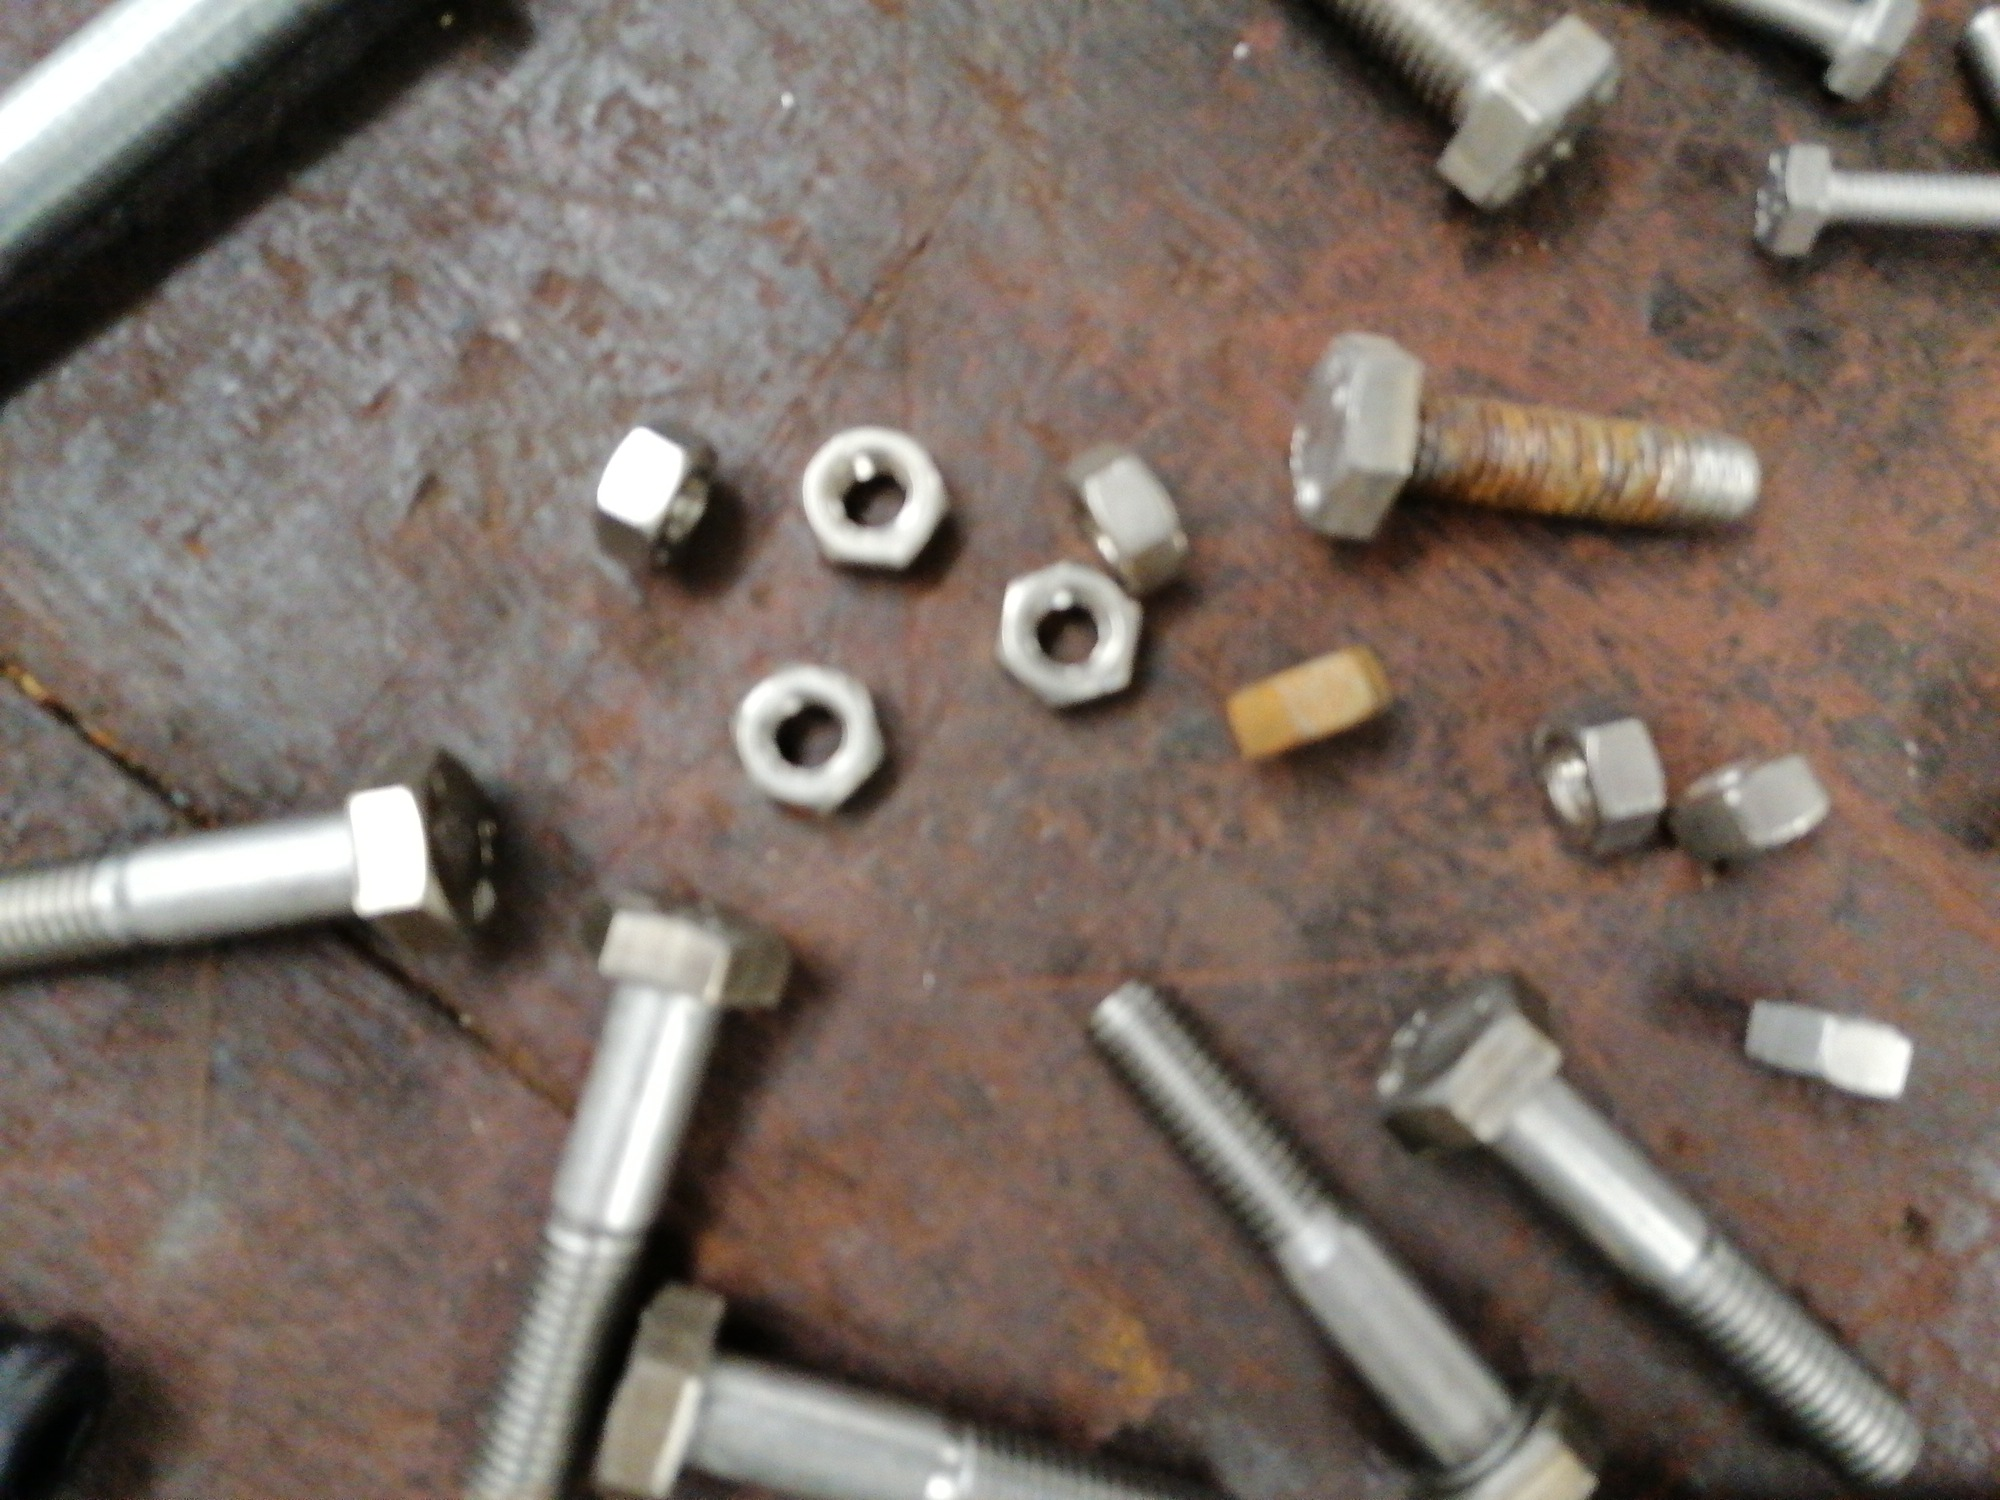bolt: (1369, 966, 1932, 1494), (1085, 964, 1613, 1498), (441, 890, 795, 1498), (576, 1272, 1213, 1498), (0, 741, 515, 980), (1287, 329, 1767, 540), (1321, 2, 1627, 211), (1750, 142, 2000, 257), (1666, 2, 1921, 106)
nut: (987, 551, 1148, 715), (795, 419, 954, 581), (729, 660, 893, 818), (1523, 696, 1671, 857), (1220, 640, 1402, 767), (591, 414, 724, 578), (1669, 744, 1831, 874), (1732, 988, 1918, 1101), (1061, 440, 1194, 599)
